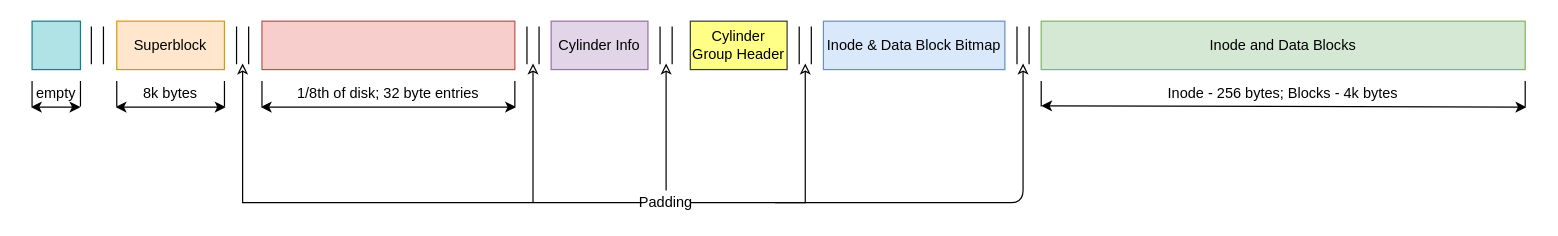
Image size: 1558x236. Some labels were removed from this diagram. The shapes that lost their labels are listed below. From the top down, each one's box as (x1, y1, x2, y2) in pixels, then its label:
(31, 20, 80, 70): Boot Block
(261, 20, 515, 70): Dedup Table
